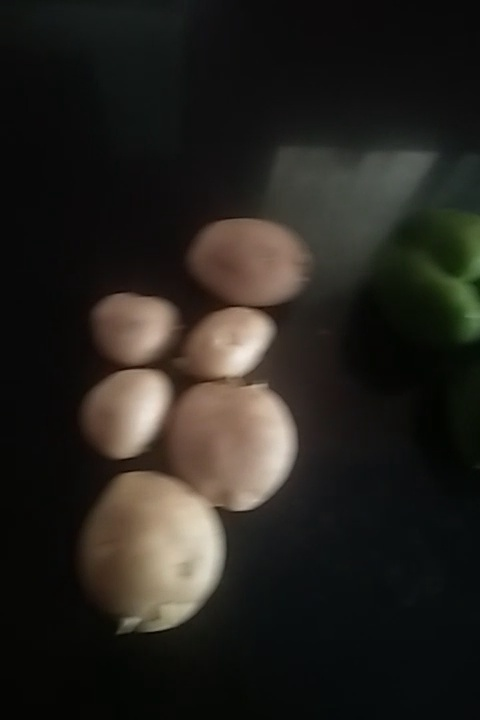potato: (91, 474, 230, 641), (165, 380, 316, 513), (183, 215, 314, 299), (79, 292, 183, 362), (188, 308, 283, 379), (84, 372, 169, 449)
